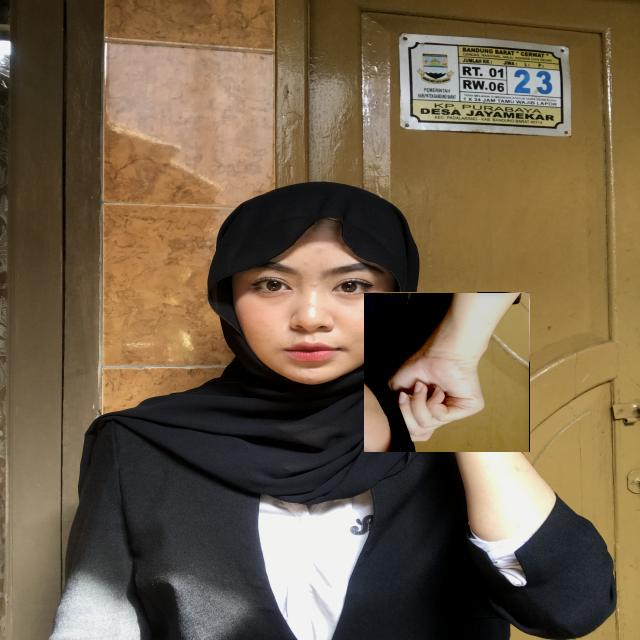ibu: (364, 292, 530, 452)
